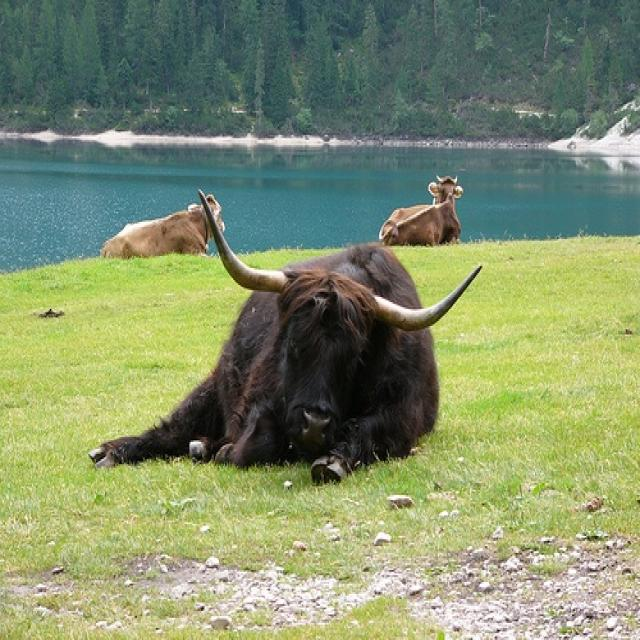cow: (88, 186, 484, 481), (96, 195, 225, 256), (376, 170, 465, 246)
